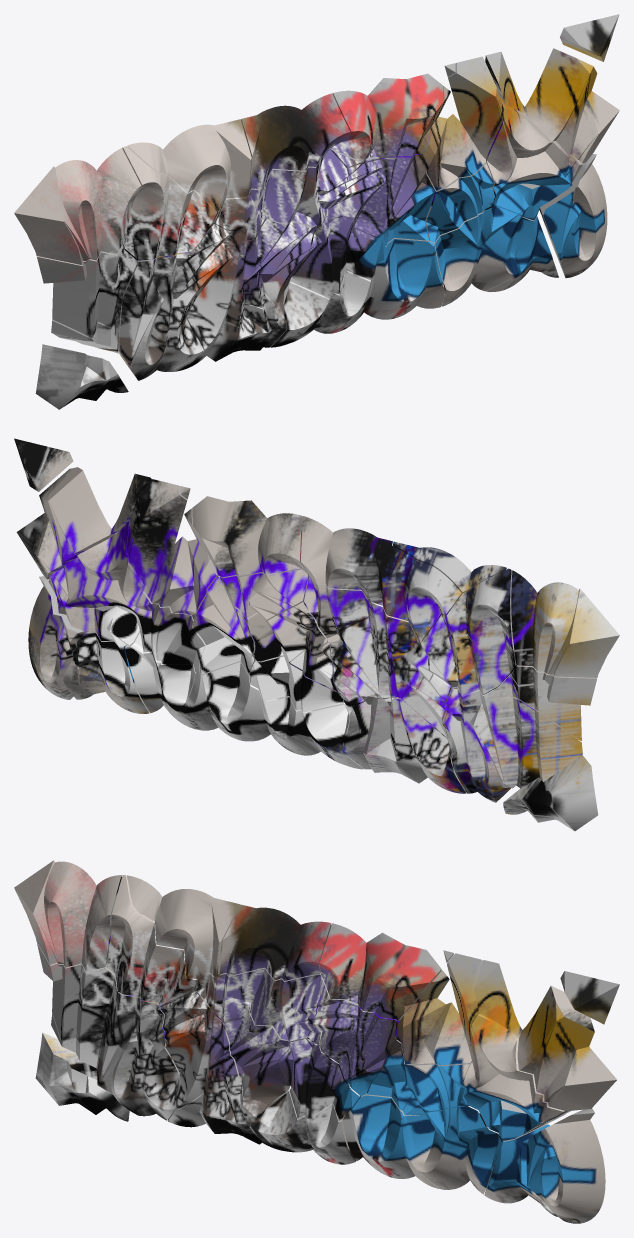
Rendered from breaks-destroed-web_simple_01.glb.
3 renders of one model, top to bottom at view 1: azimuth 30°, elevation 25°; view 2: azimuth 150°, elevation 25°; view 3: azimuth 330°, elevation 25°, orthographic.
Visible parts, largest first — view 1: Voronoi Fracture.1; view 2: Voronoi Fracture.1; view 3: Voronoi Fracture.1.
Part boxes in pixels (x1,y1,x2,y2): Voronoi Fracture.1: (14,14,619,409); Voronoi Fracture.1: (14,438,619,831); Voronoi Fracture.1: (14,860,619,1223).
Size of the model in its own units: 83.08 by 33.8 by 7.76.
1 material, 1 textured.
